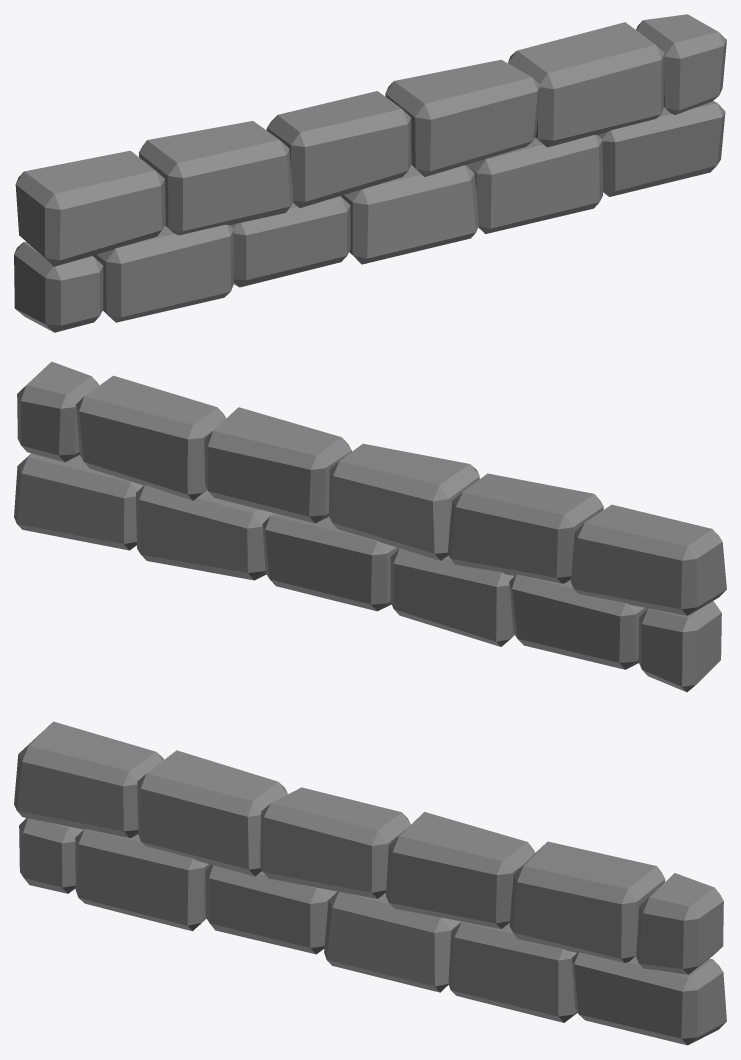
The model's file is BrickWall2mSection_01_Solo.fbx.
3 views of the same model, one above another, from view 1: azimuth 30°, elevation 25°; view 2: azimuth 150°, elevation 25°; view 3: azimuth 330°, elevation 25° (orthographic).
Visible parts, largest first — view 1: BrickWall2mSection_01_Solo; view 2: BrickWall2mSection_01_Solo; view 3: BrickWall2mSection_01_Solo.
Boxes of the visible parts, <box> form: BrickWall2mSection_01_Solo: <box>14,14,726,332</box>; BrickWall2mSection_01_Solo: <box>14,361,726,692</box>; BrickWall2mSection_01_Solo: <box>14,721,726,1045</box>.
Size of the model in its own units: 200 by 41.78 by 21.66.
